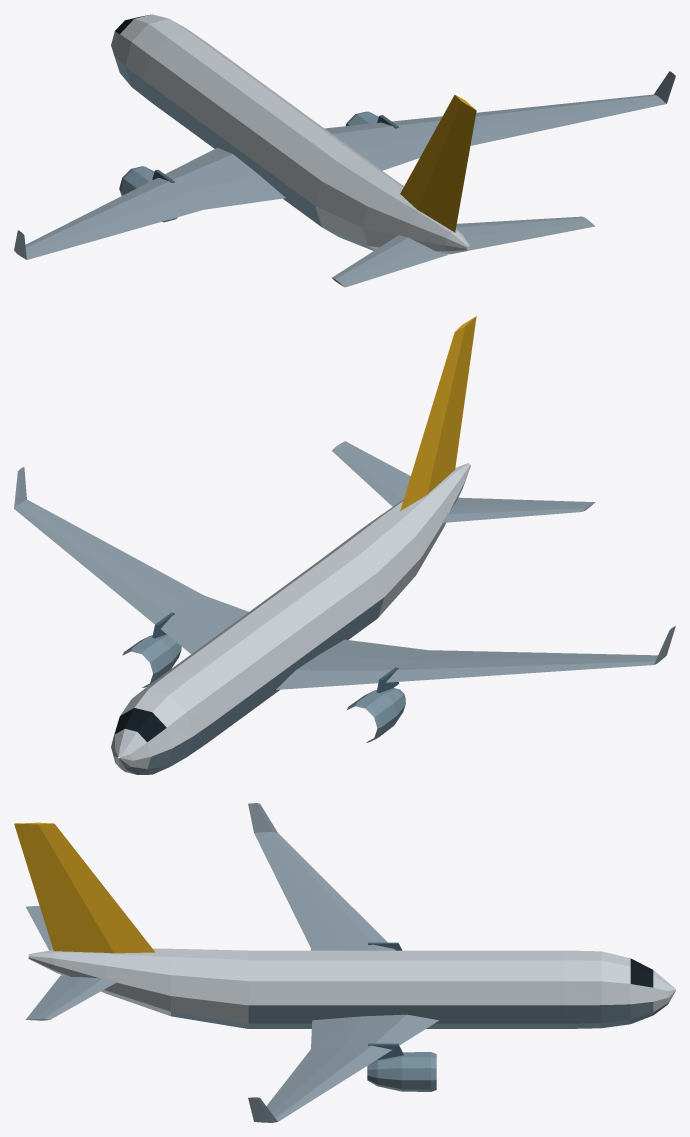
3 views of the same model, one above another, from view 1: azimuth 30°, elevation 25°; view 2: azimuth 150°, elevation 25°; view 3: azimuth 270°, elevation 25° (orthographic). The views are drawn at different scales.
Visible parts, largest first — view 1: lod0; view 2: lod0; view 3: lod0.
Boxes of the visible parts, x1,y1,x2,y2 form: lod0: [14, 14, 675, 287]; lod0: [14, 316, 675, 774]; lod0: [14, 803, 675, 1122].
Size of what is drawn, in the model's own units: 1.05 by 0.3587 by 1.
